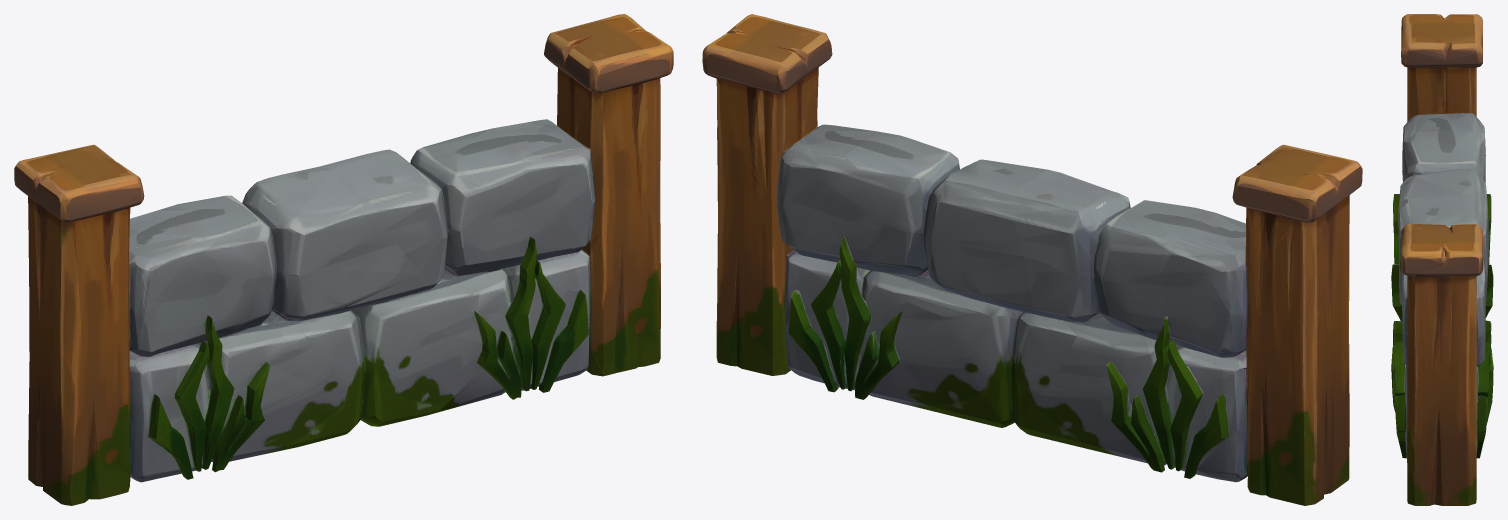
The model's file is seawall.glb.
The picture shows the model from 3 angles, left to right: view 1: azimuth 30°, elevation 25°; view 2: azimuth 150°, elevation 25°; view 3: azimuth 270°, elevation 25°; orthographic projection. The views are drawn at different scales.
Bounding box in the file's own units: 1.9 × 0.9353 × 0.3388.
Materials: 1 (1 with a texture image).
